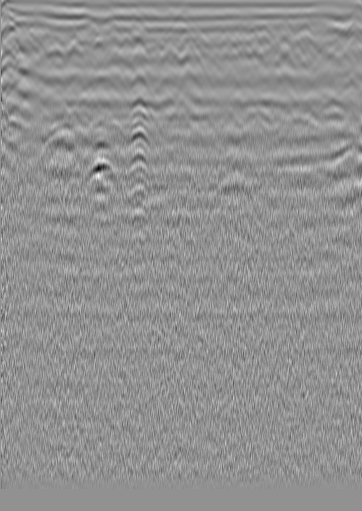가스: (81, 160, 116, 186)
상수: (293, 29, 313, 49)
오수: (25, 26, 45, 46)
우수: (179, 32, 199, 52)
